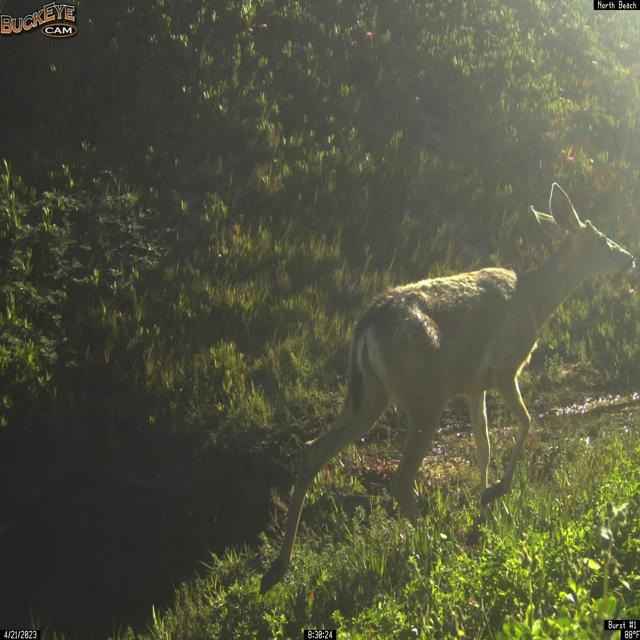deer: (258, 181, 636, 596)
